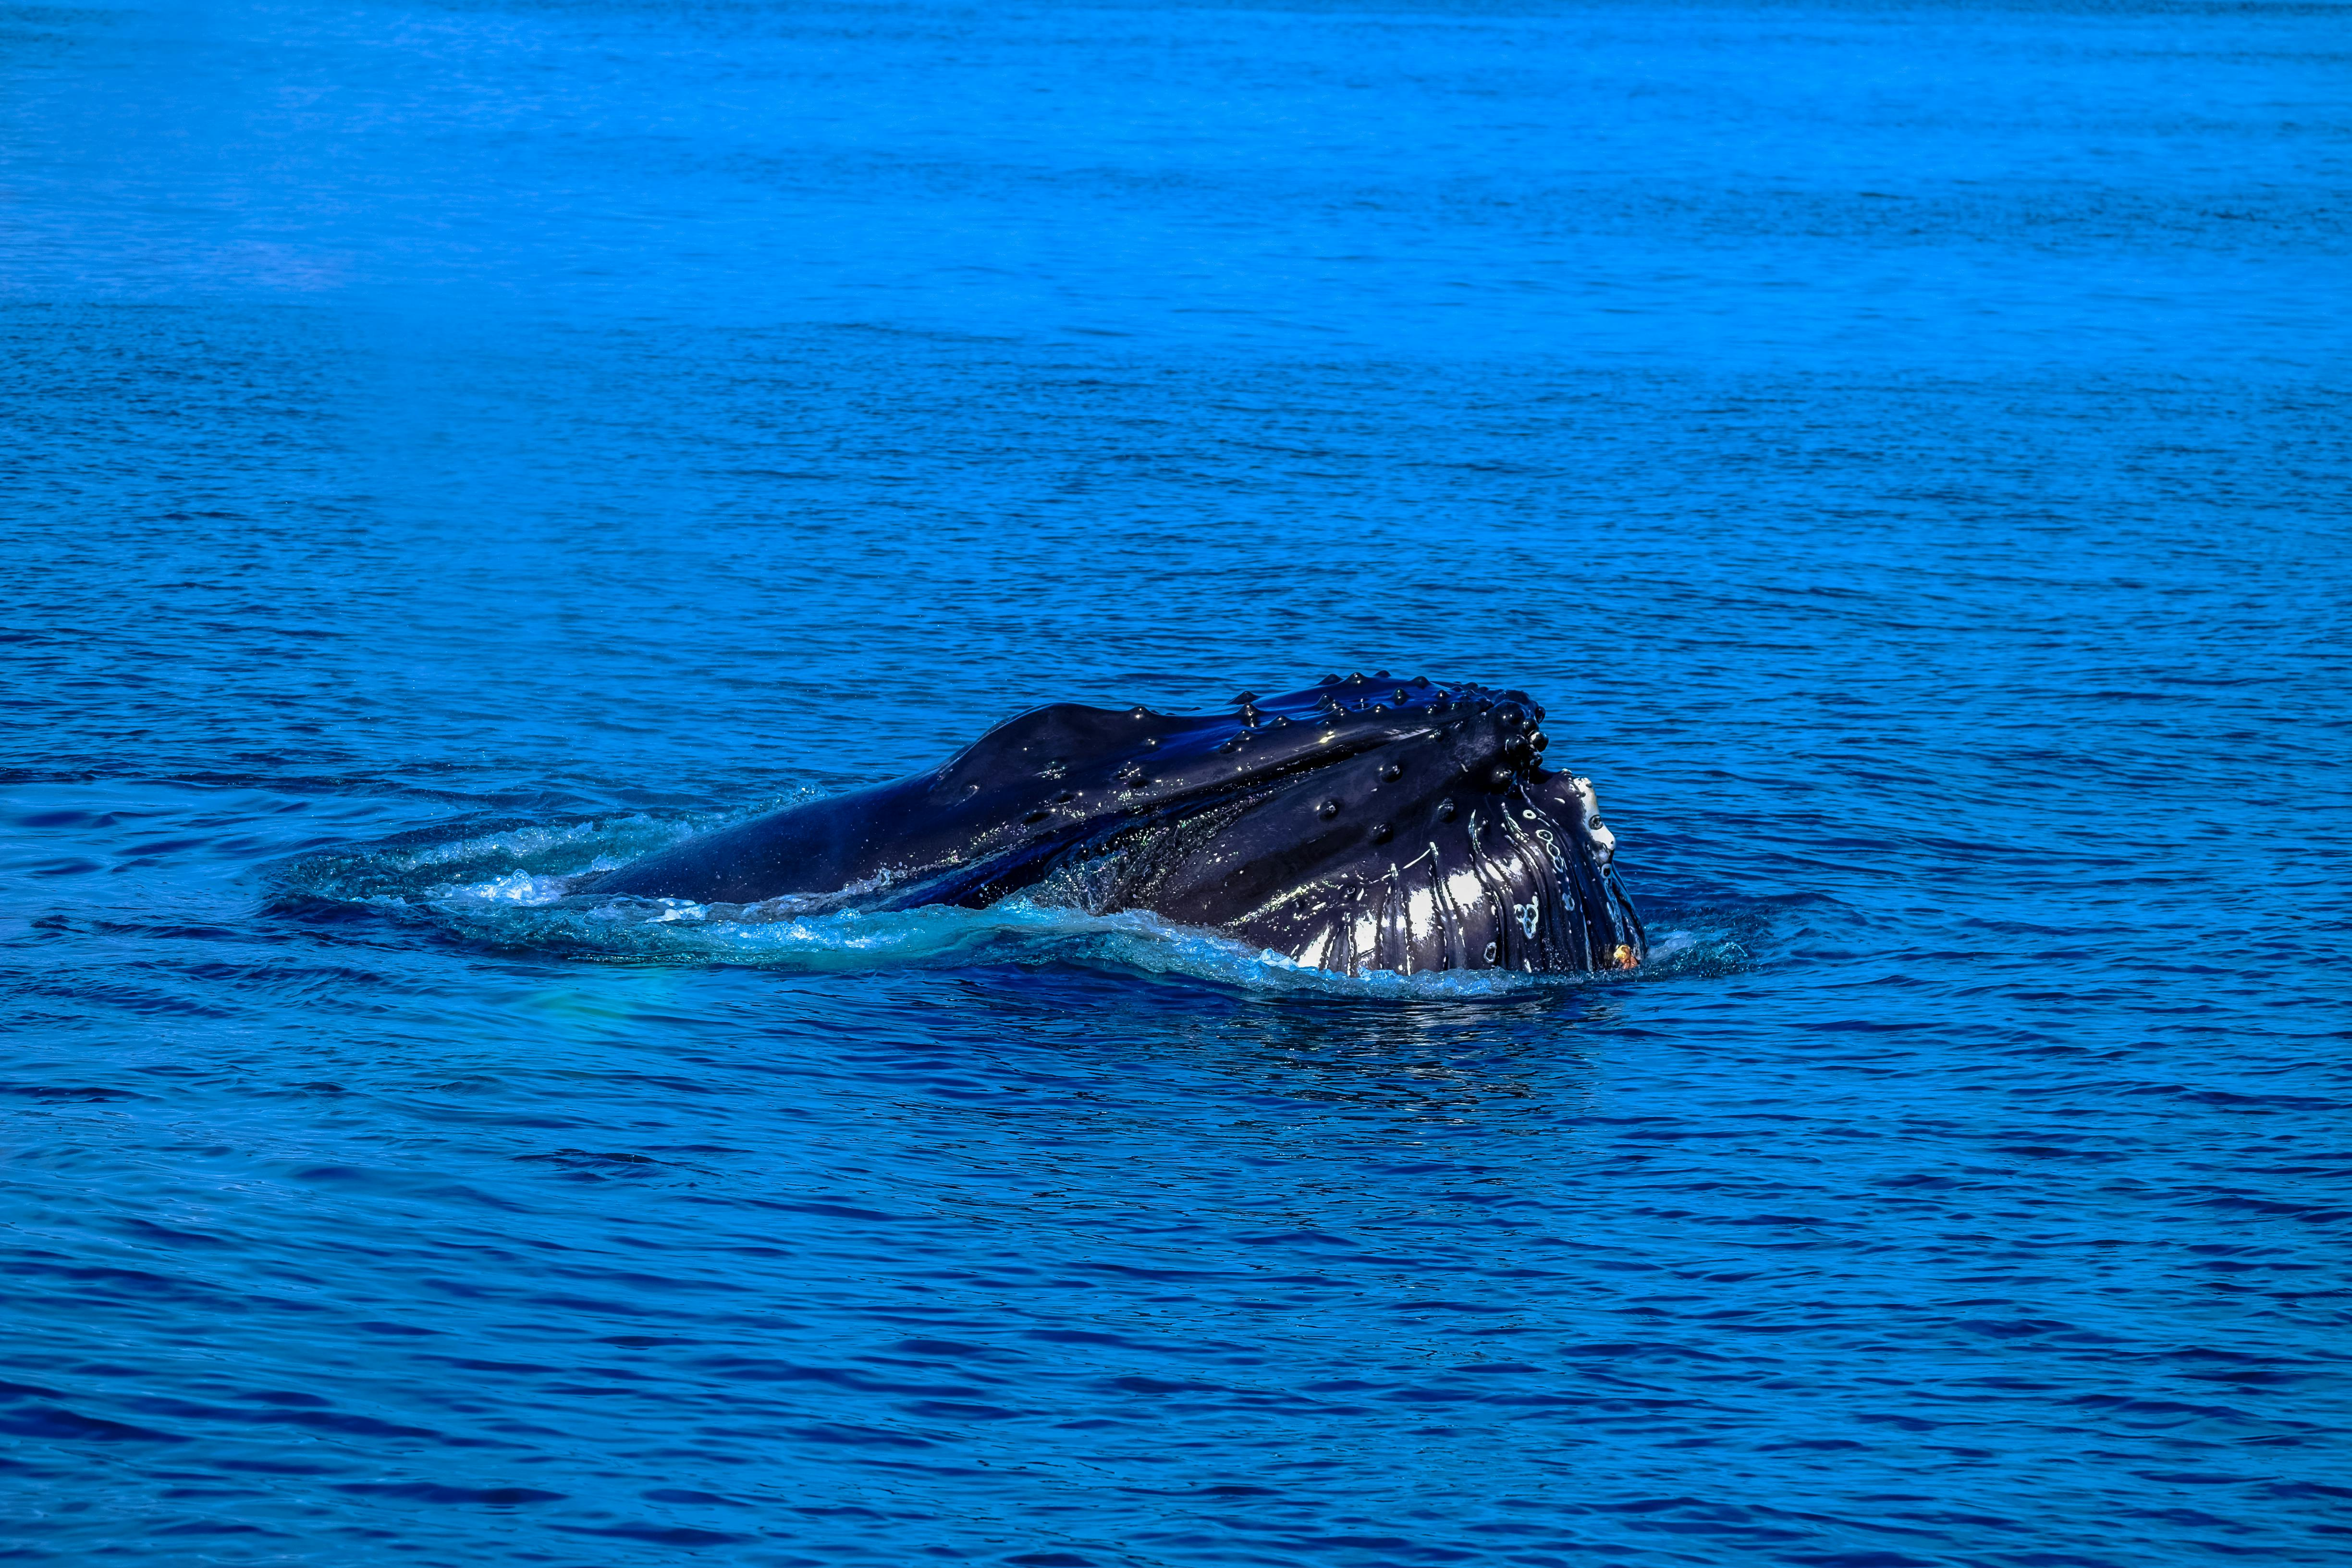whale: (555, 665, 1652, 983)
